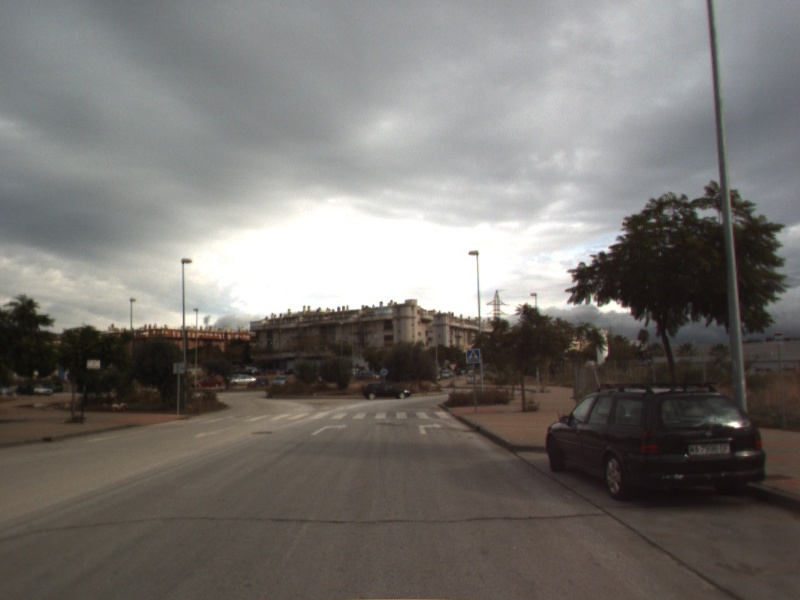RIGHT: (309, 421, 350, 437), (417, 421, 445, 436)
